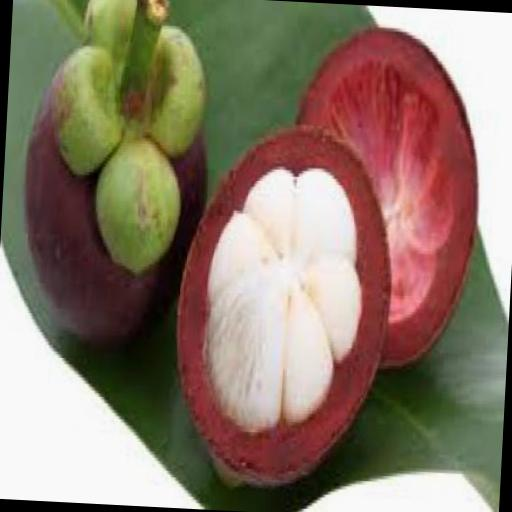biodegradable: (170, 137, 474, 471), (1, 0, 361, 251), (166, 118, 400, 498), (276, 20, 486, 379), (13, 0, 216, 356)
